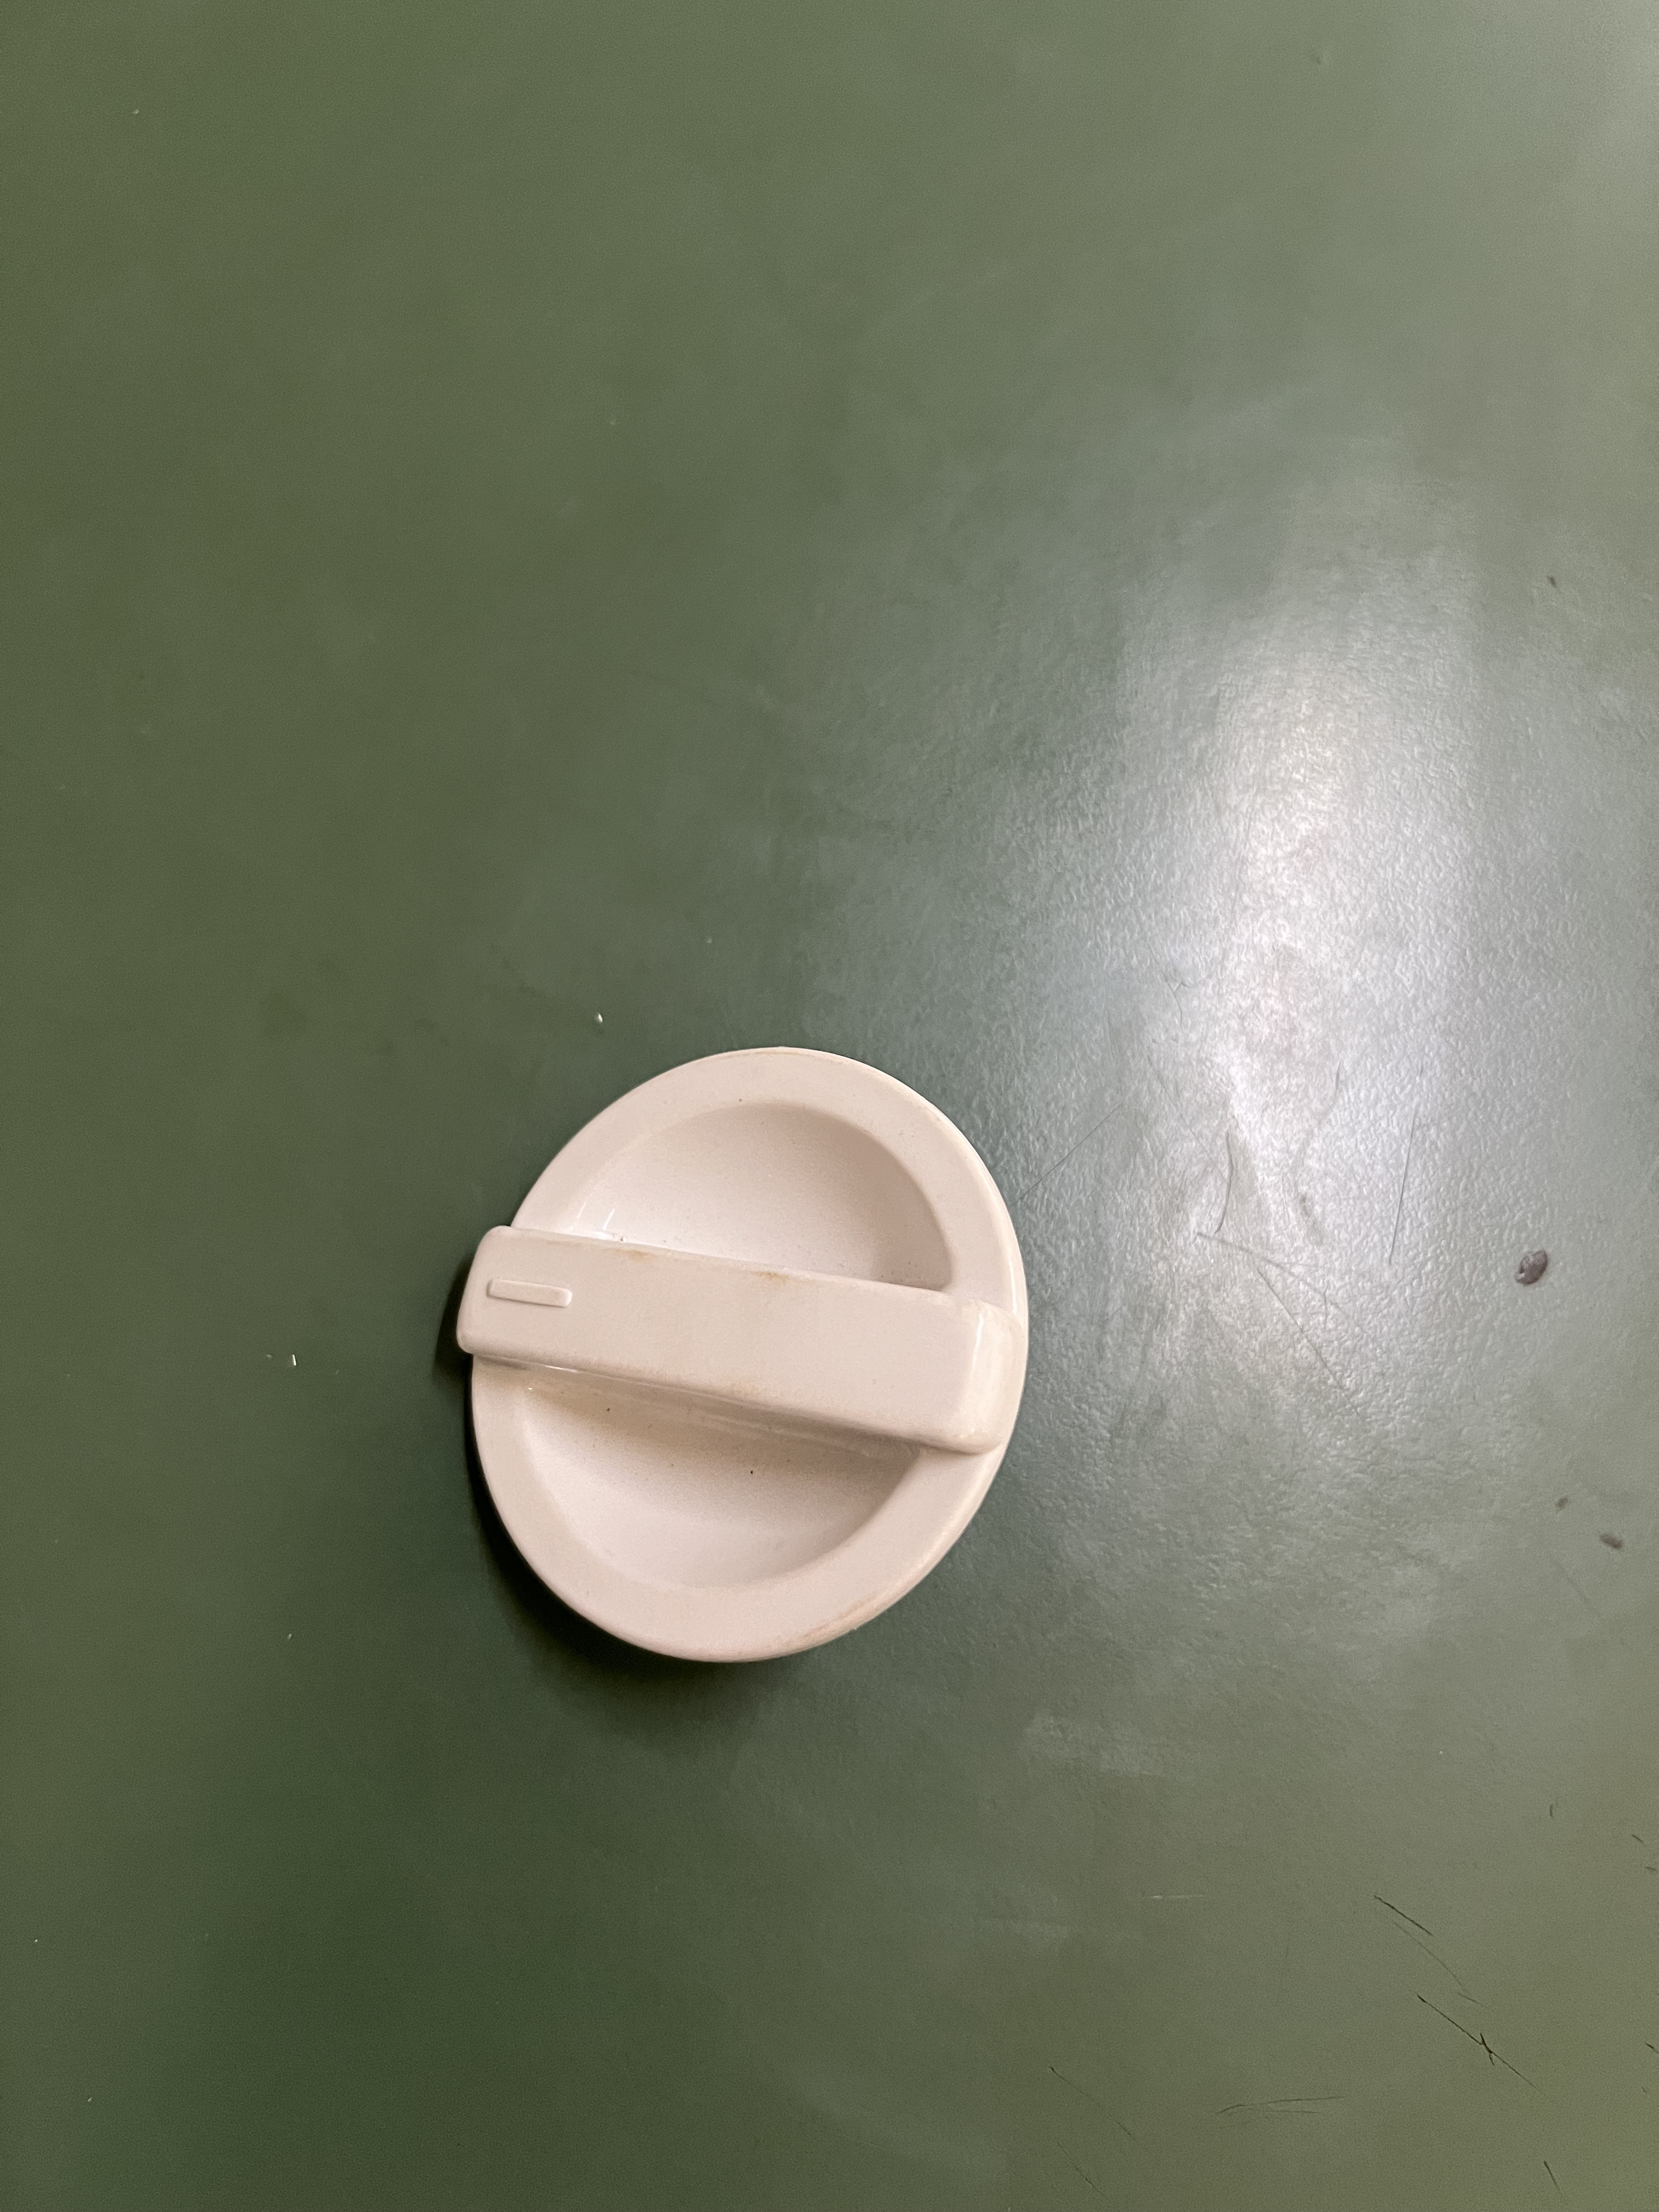regulator: (378, 1035, 1084, 1700)
